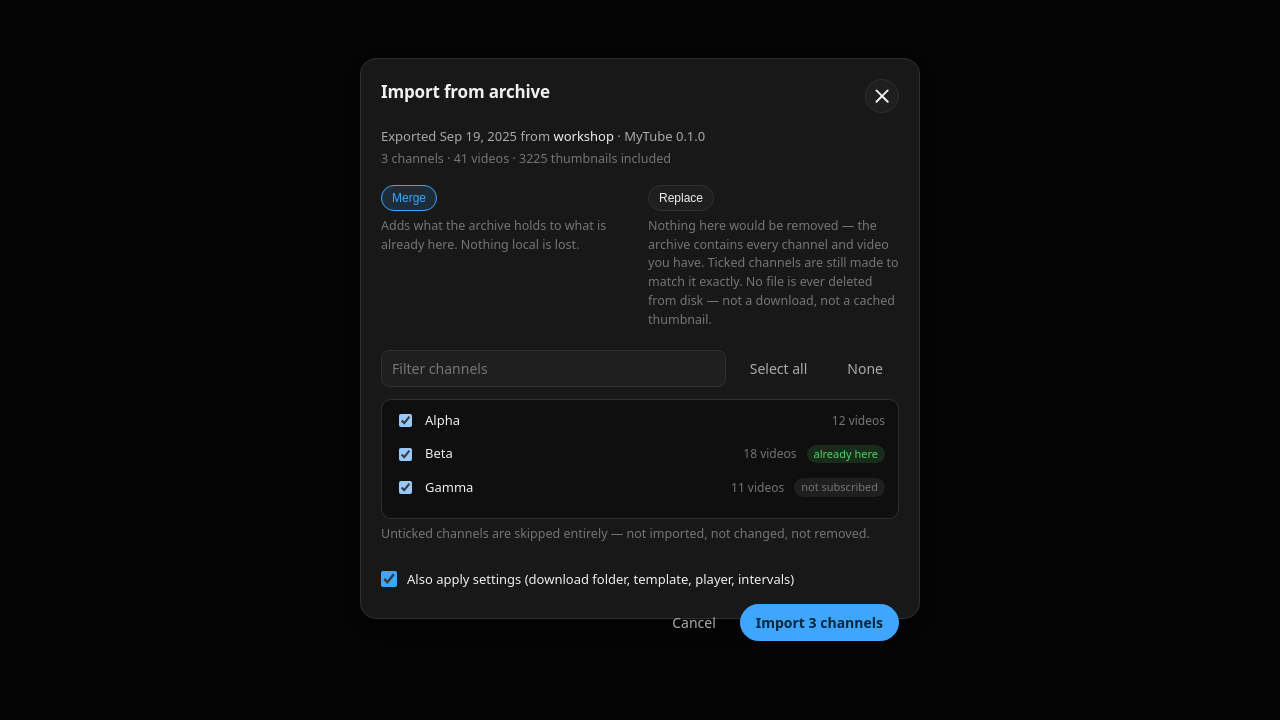
Test: TransferDialog › says in words, not a zero, when a Replace would remove nothing
Check: the text "Nothing here would be removed" is shown, box x1=648 y1=217 x2=899 y2=328
Click the button "Replace": (681, 198) x1=648 y1=185 x2=714 y2=211
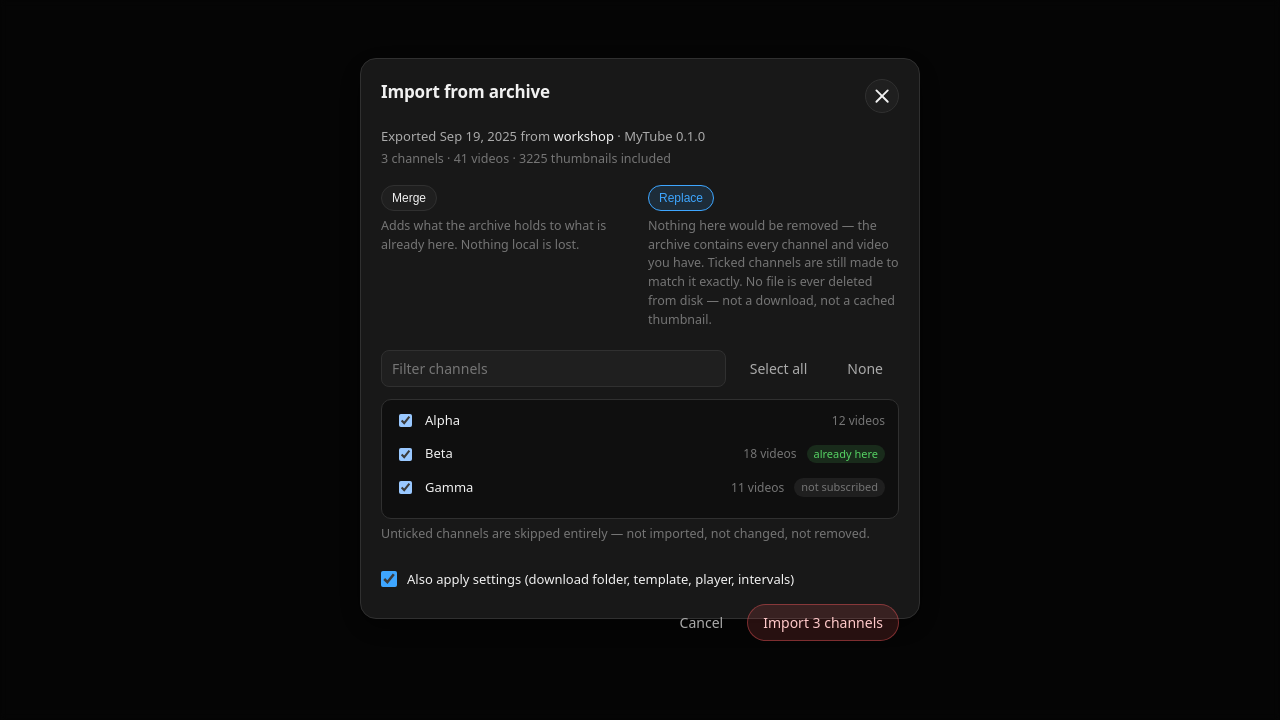
Click the button "Import 3 channels": (823, 622) x1=747 y1=604 x2=899 y2=641
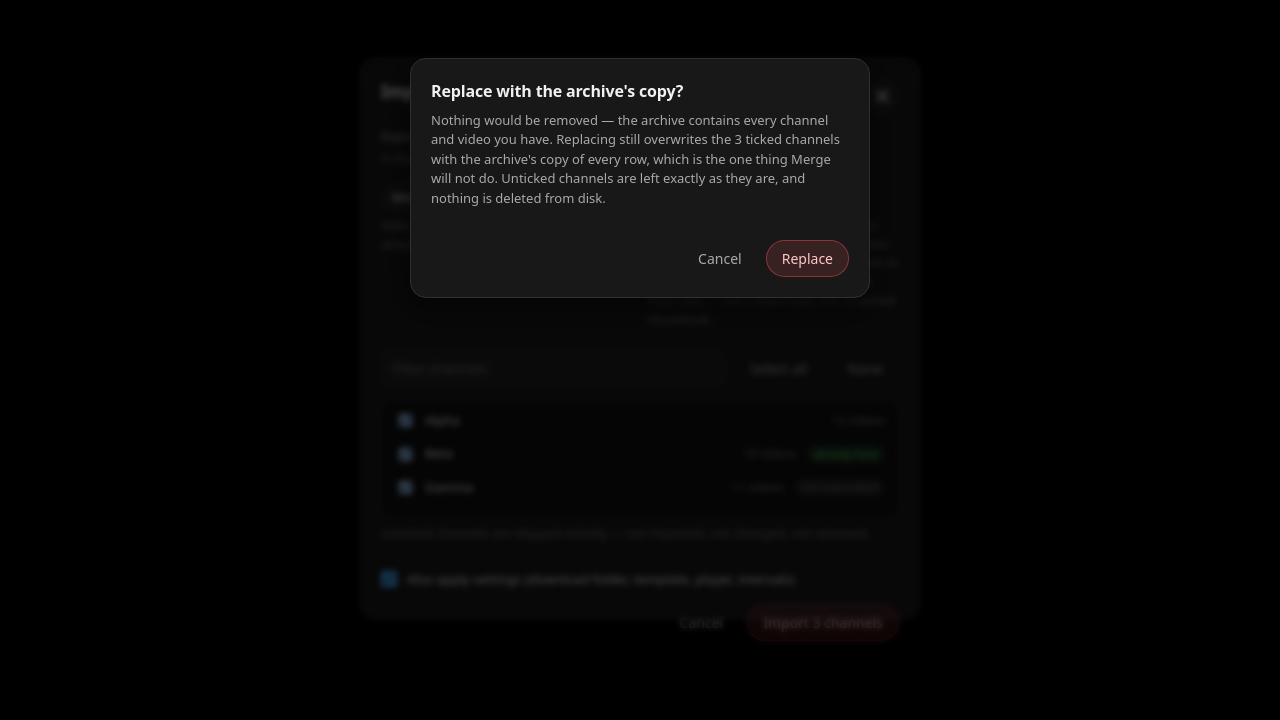
Check: the text "Nothing would be removed" shows "the one thing Merge will not do", box x1=431 y1=111 x2=840 y2=207
